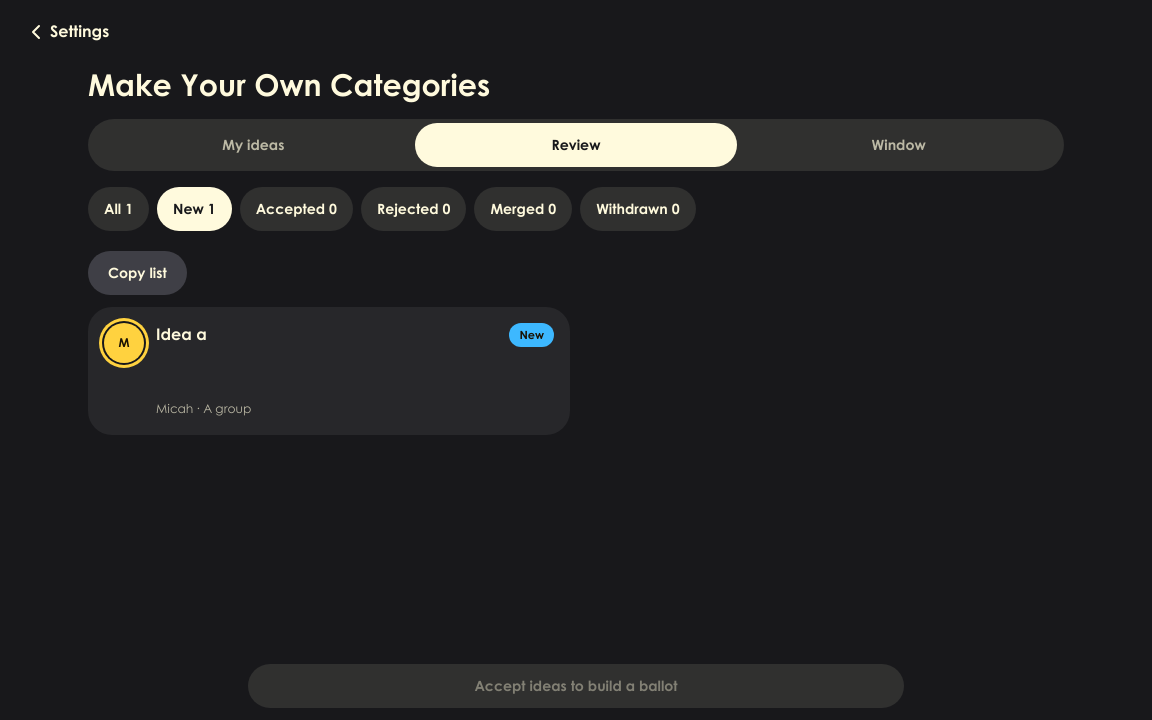
Test: committee › adds an idea to a chosen draft ballot
Later steps or results of the test are not shown.
What coordinates should you click on to do the following:
click the button with aria-label "Review Idea a"
I would click on:
 (124, 343)
Its box is [88,307,570,435].
(page scrolled)
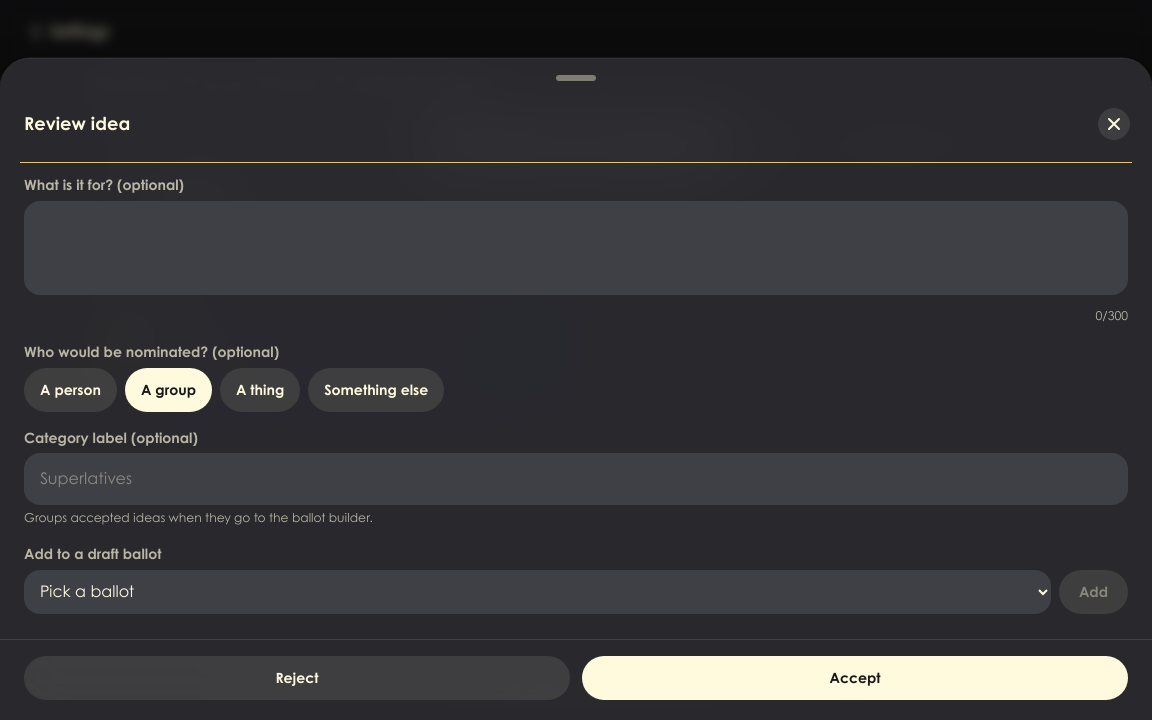
Expected: the button "Add" is disabled, [1059,570,1128,614]
